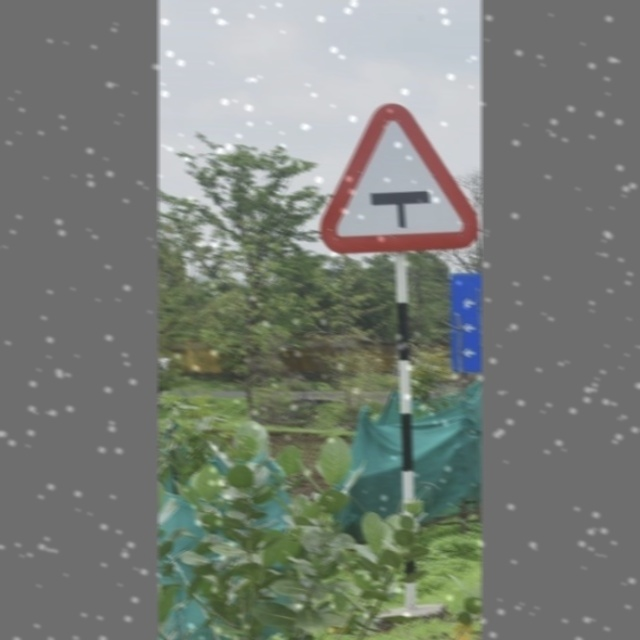T_Intersection: (328, 102, 471, 247)
